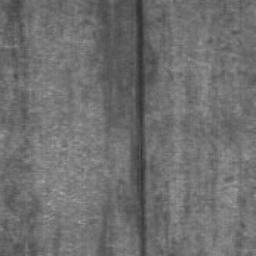Scratches: (135, 0, 148, 256)
